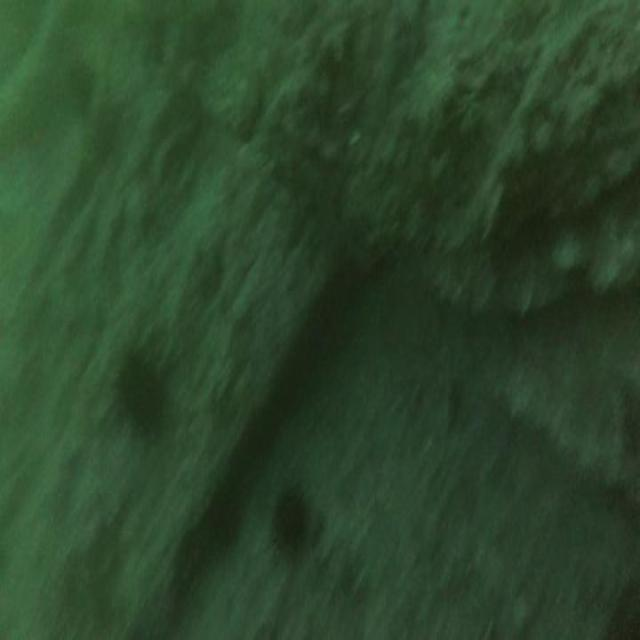echinus: (108, 335, 182, 450), (266, 472, 316, 570)
